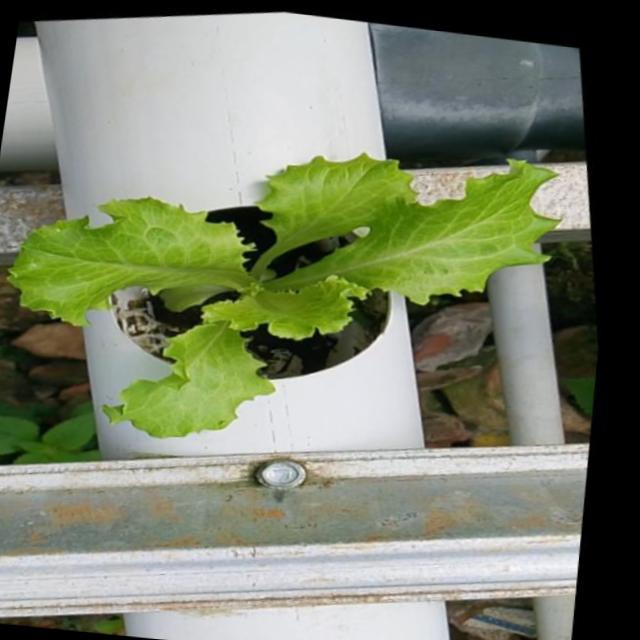Baby: (5, 155, 556, 438)
